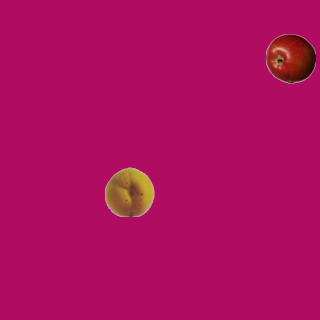Apple Braeburn: (265, 33, 315, 83)
Peach 2: (104, 166, 154, 216)
